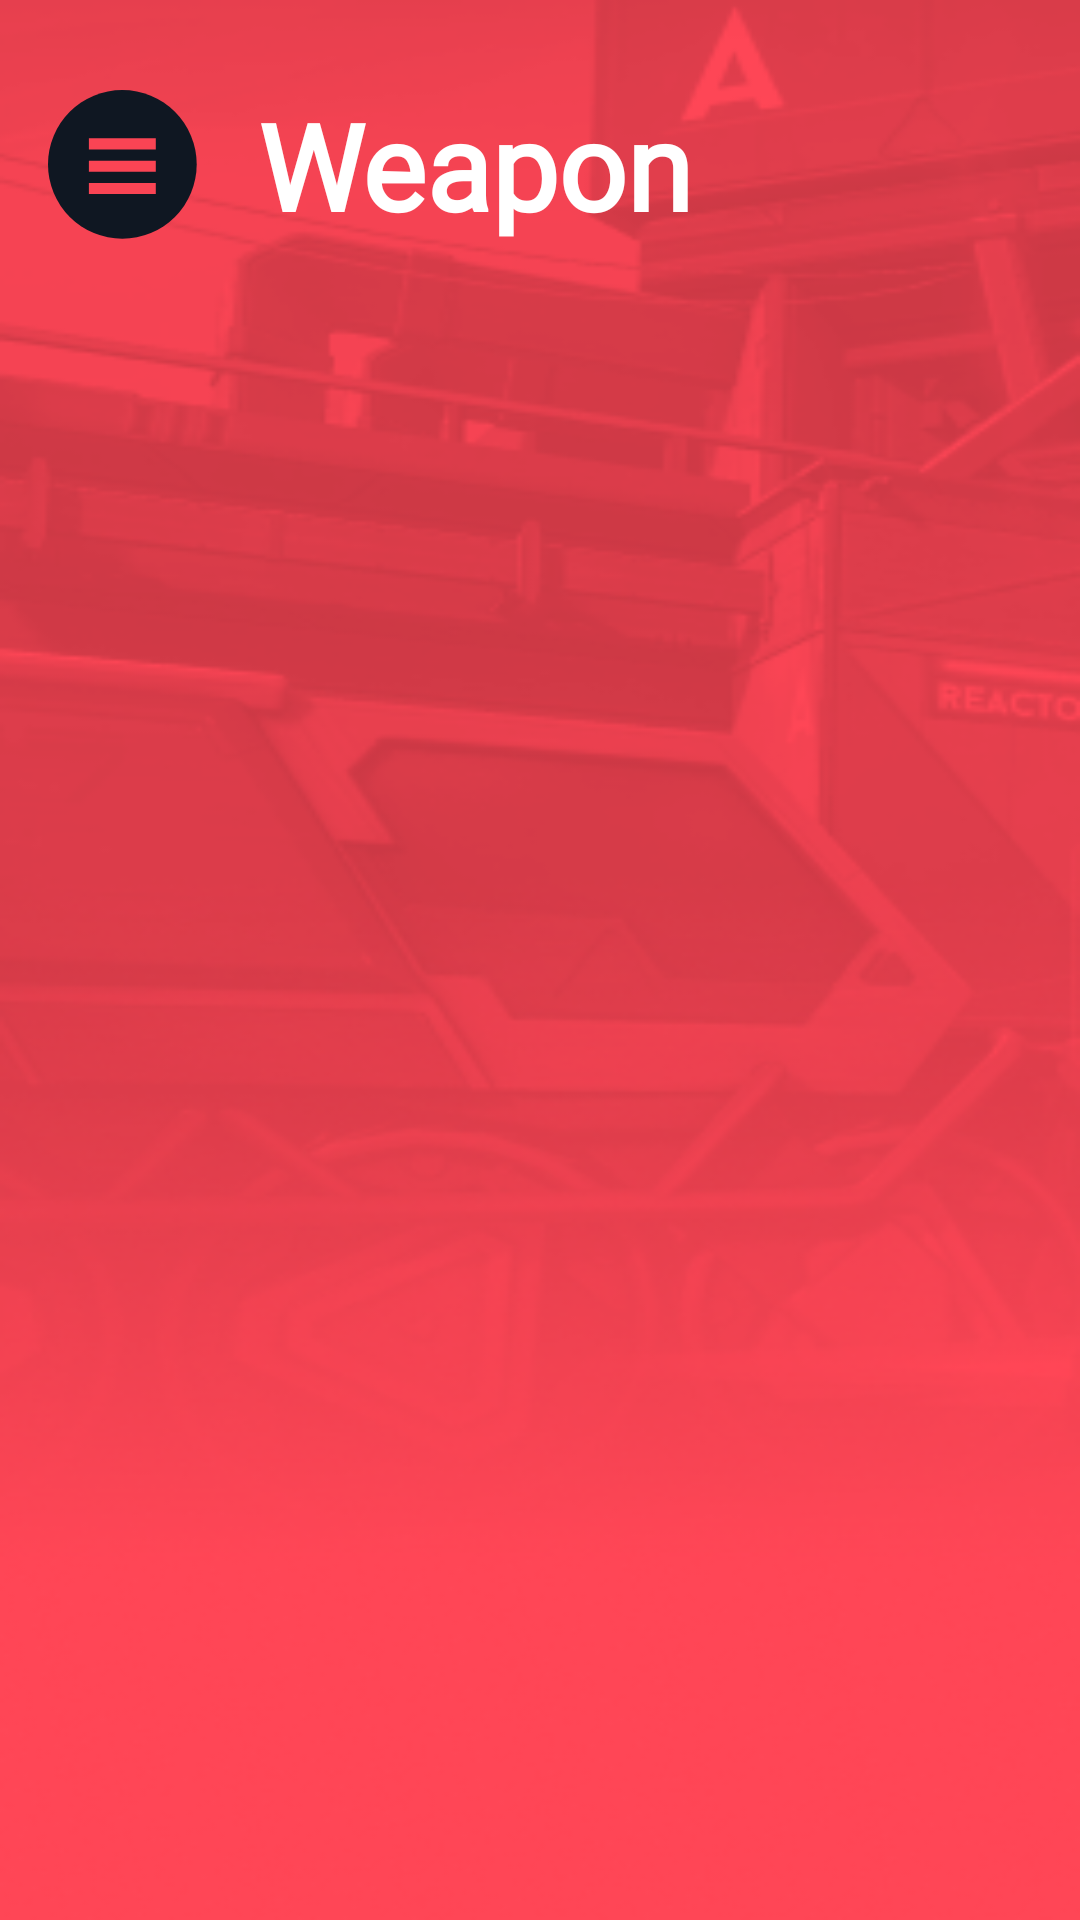

Icon click points for this 1080px x 1920px phone screenshot, format point (x, y):
burgermenu: point (122, 164)
